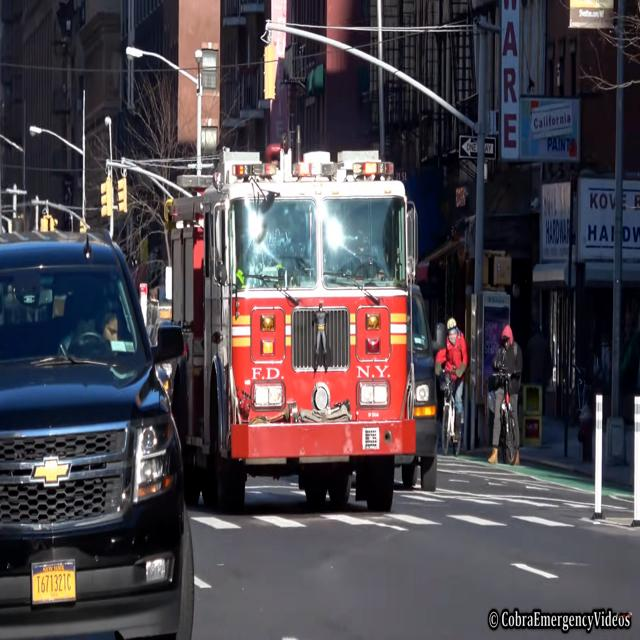emergency-vehicles: (144, 111, 452, 548)
